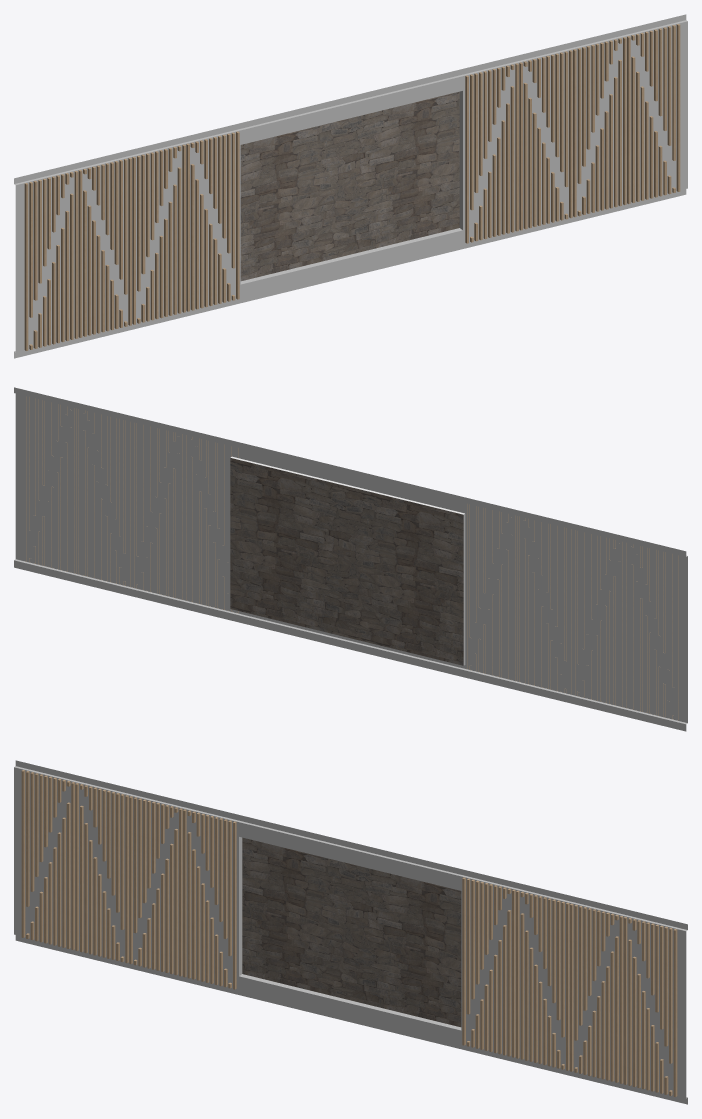
3 views of the same model, one above another, from view 1: azimuth 30°, elevation 25°; view 2: azimuth 150°, elevation 25°; view 3: azimuth 330°, elevation 25° (orthographic).
Visible parts, largest first — view 1: M_W_301_a_24x6; view 2: M_W_301_a_24x6; view 3: M_W_301_a_24x6.
Part boxes in pixels (x1,y1,x2,y2): M_W_301_a_24x6: [14, 14, 687, 358]; M_W_301_a_24x6: [14, 387, 687, 731]; M_W_301_a_24x6: [14, 760, 687, 1104].
Bounding box in the file's own units: 24.2 × 6.2 × 0.4.
